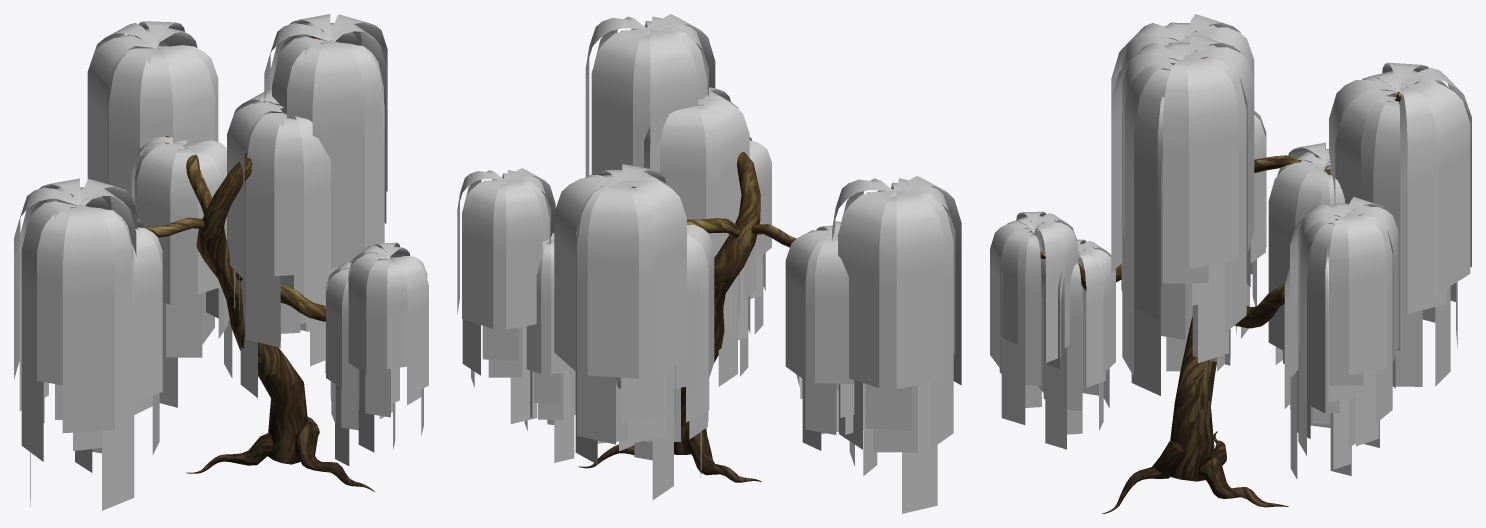
Rendered from WillowTree.fbx.
3 views of the same model, side by side, from view 1: azimuth 30°, elevation 25°; view 2: azimuth 150°, elevation 25°; view 3: azimuth 270°, elevation 25° (orthographic). The views are drawn at different scales.
Visible parts, largest first — view 1: Sphere.007; view 2: Sphere.007; view 3: Sphere.007.
Boxes of the visible parts, x1,y1,x2,y2 form: Sphere.007: (14,14,428,510); Sphere.007: (457,14,961,513); Sphere.007: (990,14,1471,513).
Bounding box in the file's own units: 711 × 697 × 661.
